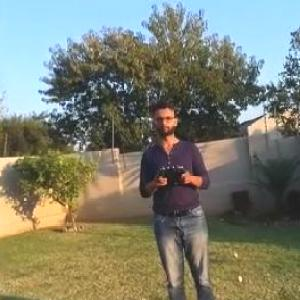follow: (132, 98, 222, 299)
